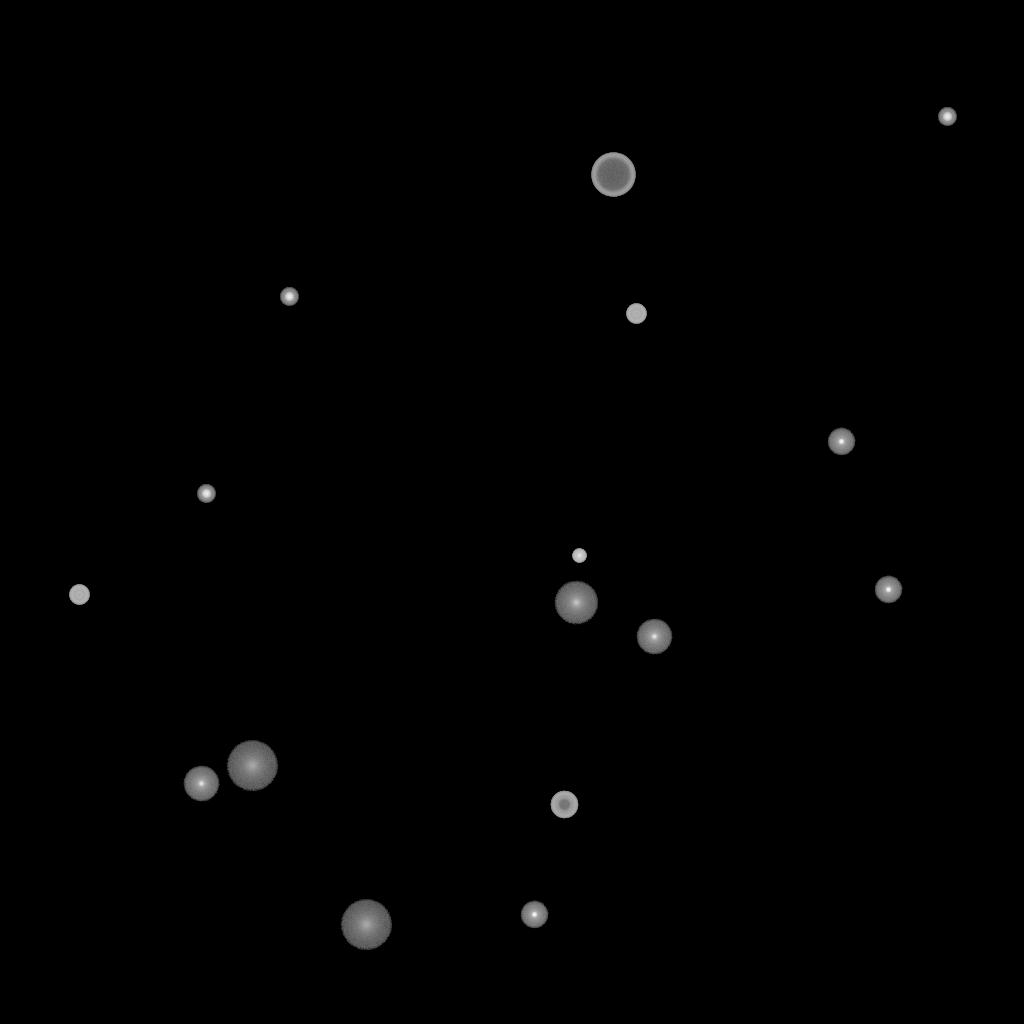depth:-10: (827, 428, 855, 456), (520, 901, 548, 929), (874, 576, 902, 604)
depth:-20: (280, 288, 298, 306), (197, 485, 215, 503), (938, 108, 956, 126)
depth:-30: (572, 549, 586, 563)
depth:-40: (69, 585, 89, 605), (626, 304, 646, 324)
depth:-50: (550, 791, 578, 819)
depth:-70: (591, 153, 635, 197)
depth:0: (183, 766, 219, 802), (636, 619, 672, 655)
depth:10: (554, 581, 598, 625)
depth:20: (226, 741, 278, 791), (340, 900, 392, 950)
